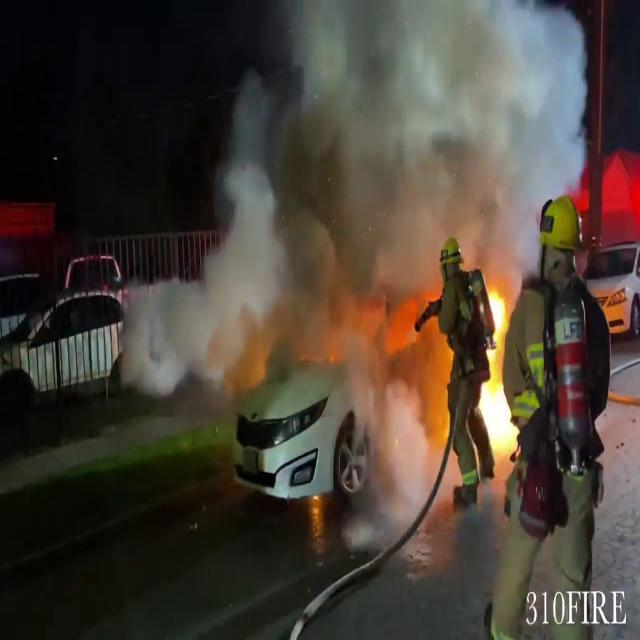Fire: (477, 273, 520, 463)
Smoke: (134, 1, 578, 526)
